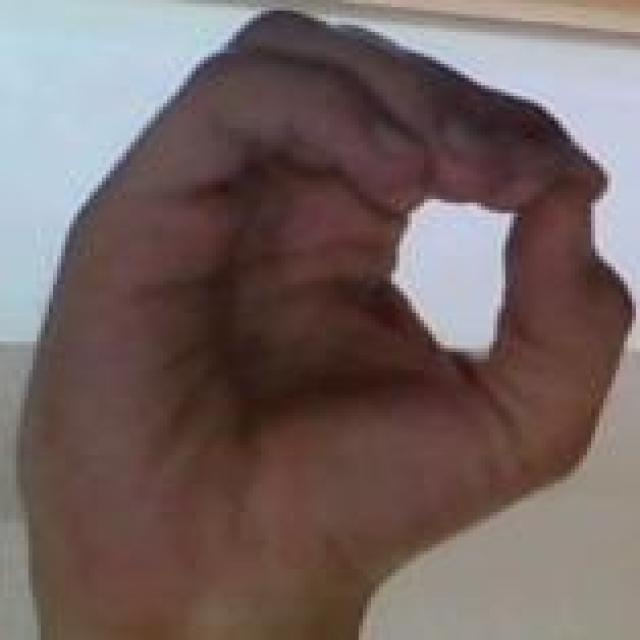O: (8, 11, 640, 601)
